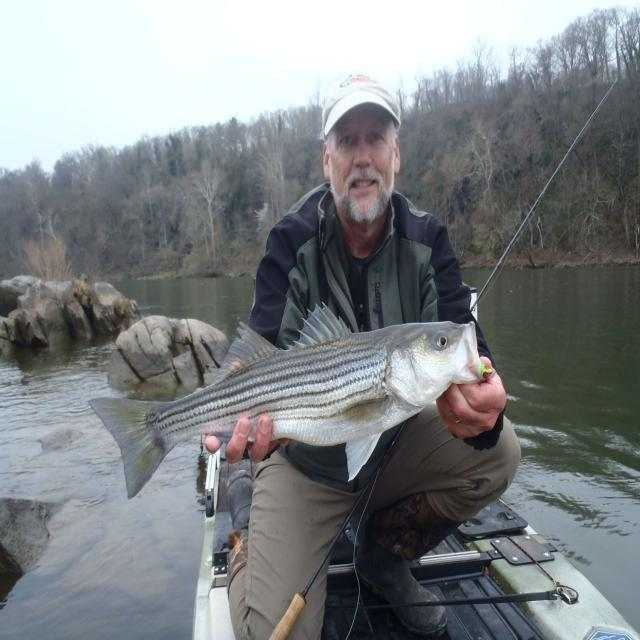Bass - Striped: (90, 307, 481, 498)
